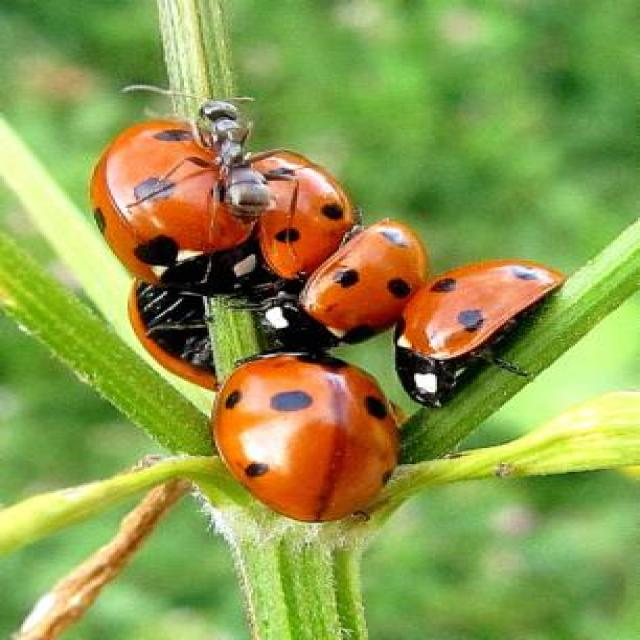body: (212, 349, 398, 523), (86, 125, 257, 296), (404, 258, 568, 404), (303, 219, 430, 339), (257, 153, 361, 279), (130, 280, 217, 386)
insect: (211, 348, 404, 521), (78, 120, 262, 297), (398, 257, 564, 405), (298, 216, 436, 344), (251, 150, 366, 284), (127, 278, 228, 386)
legs: (140, 284, 217, 366), (474, 344, 547, 386)
wings: (208, 347, 404, 523), (90, 122, 251, 267), (402, 256, 566, 353), (309, 220, 436, 333), (258, 154, 352, 280)
